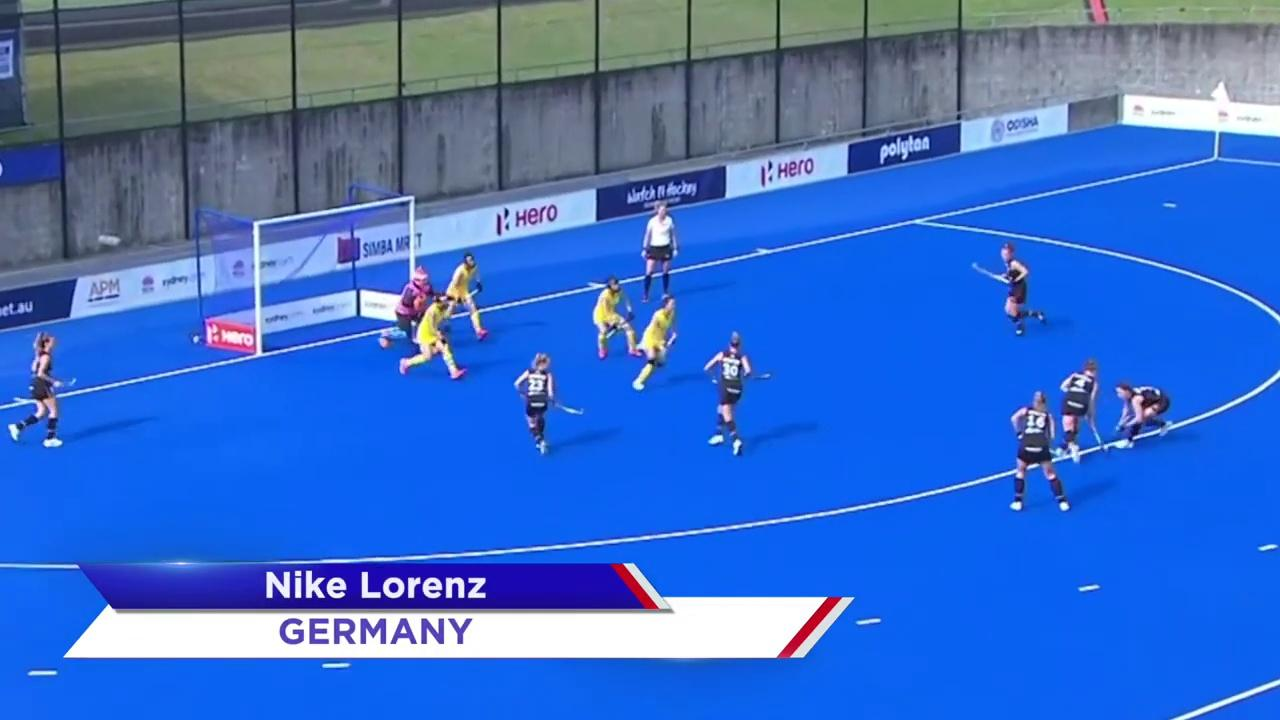ball: (1053, 496, 1071, 515)
